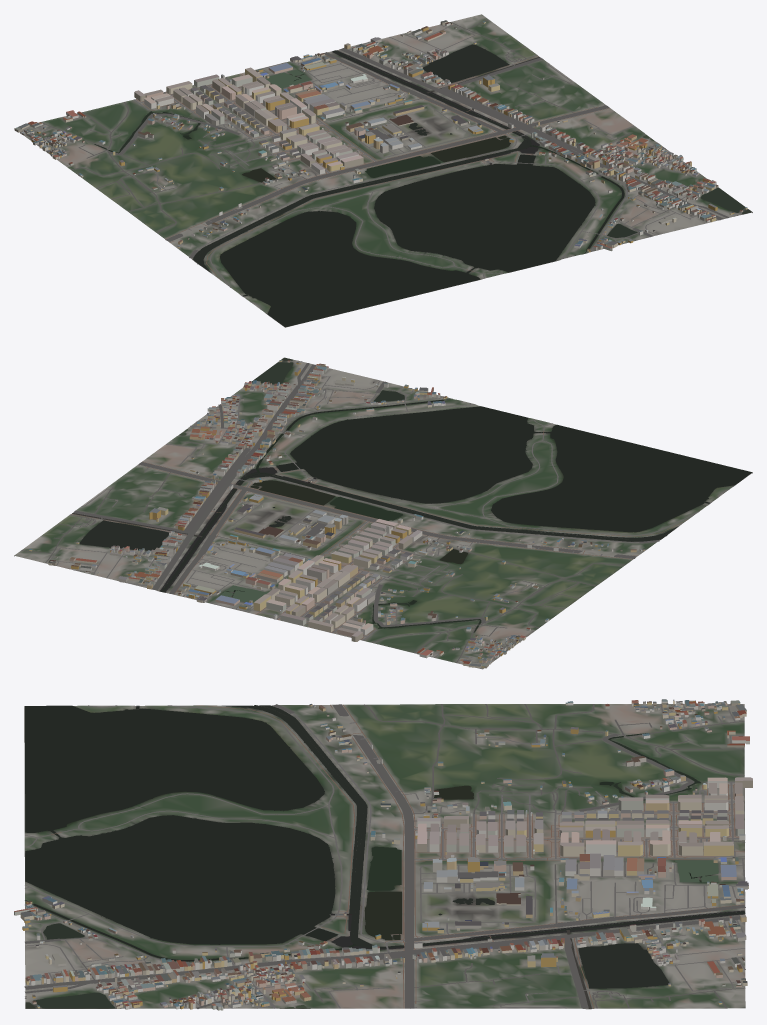
3 views of the same model, one above another, from view 1: azimuth 30°, elevation 25°; view 2: azimuth 150°, elevation 25°; view 3: azimuth 270°, elevation 25° (orthographic). The views are drawn at different scales.
Parts seen in each view (by area): view 1: ground, water, buildings, roads; view 2: ground, water, buildings, roads; view 3: ground, water, buildings, roads.
Boxes of the visible parts, x1,y1,x2,y2 form: ground: (14,14,752,327); water: (94,44,751,326); buildings: (14,20,747,252); roads: (19,19,737,309); ground: (14,358,752,669); water: (72,357,751,632); buildings: (29,360,644,668); roads: (21,360,728,663); ground: (24,704,745,1009); water: (25,705,745,1008); buildings: (14,699,752,1010); roads: (24,703,745,1008).
Size of the model in its own units: 1416 by 31.69 by 1438.
